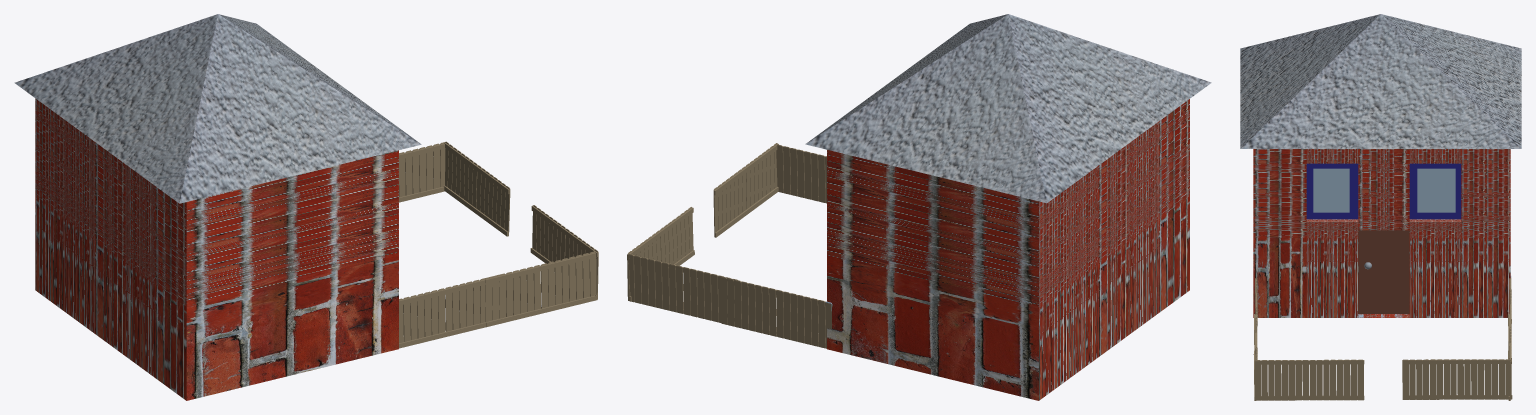
Rendered from haus1mitVorgarten.fbx.
The picture shows the model from 3 angles, left to right: view 1: azimuth 30°, elevation 25°; view 2: azimuth 150°, elevation 25°; view 3: azimuth 270°, elevation 25°; orthographic projection. The views are drawn at different scales.
Parts seen in each view (by area): view 1: haus; view 2: haus; view 3: haus.
Part boxes in pixels (bbox=[...]): haus: bbox=[14, 14, 598, 400]; haus: bbox=[627, 14, 1211, 400]; haus: bbox=[1240, 14, 1521, 400].
Size of the model in its own units: 1174 by 1754 by 1200.
